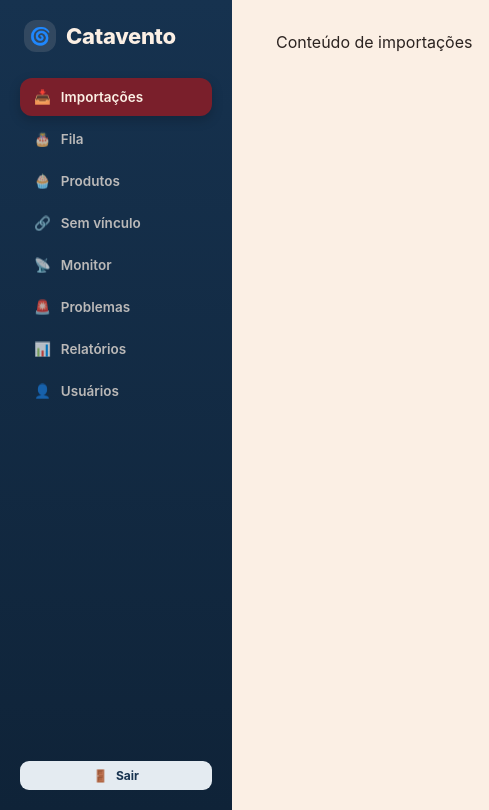
AppShell › mostra o link de Problemas e navega pra ele
What coordinates should you click on to do the following:
click the text "Problemas"
I would click on:
 (95, 307)
Its box is top-left (61, 299), bottom-right (130, 315).
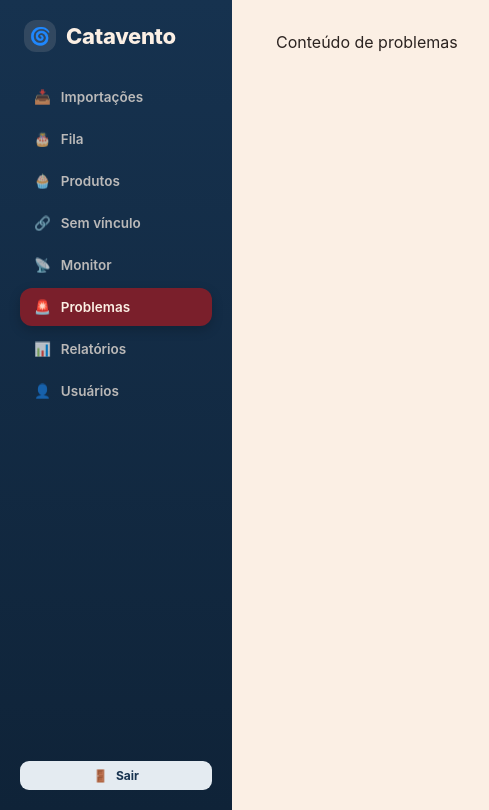
Result: the text "Conteúdo de problemas" is shown at top-left (276, 32), bottom-right (458, 52)
